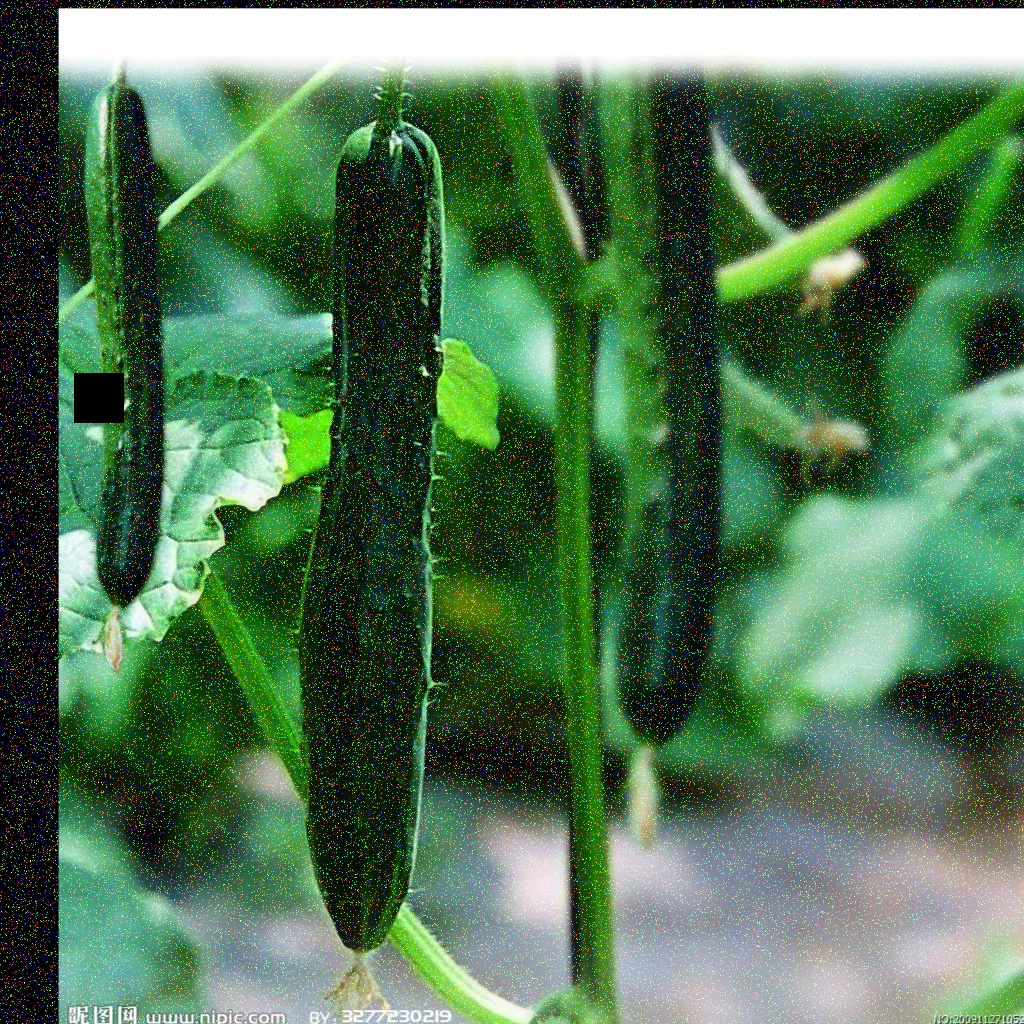cucumber: (285, 126, 463, 955), (78, 83, 176, 609)
